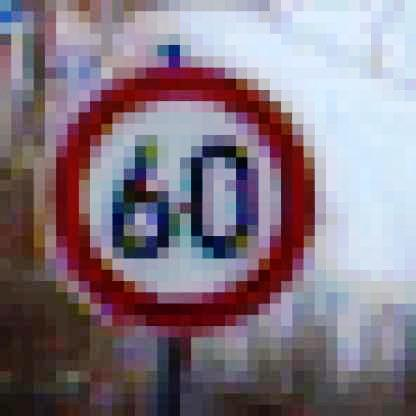Speed Limit -60-: (51, 56, 326, 332)
